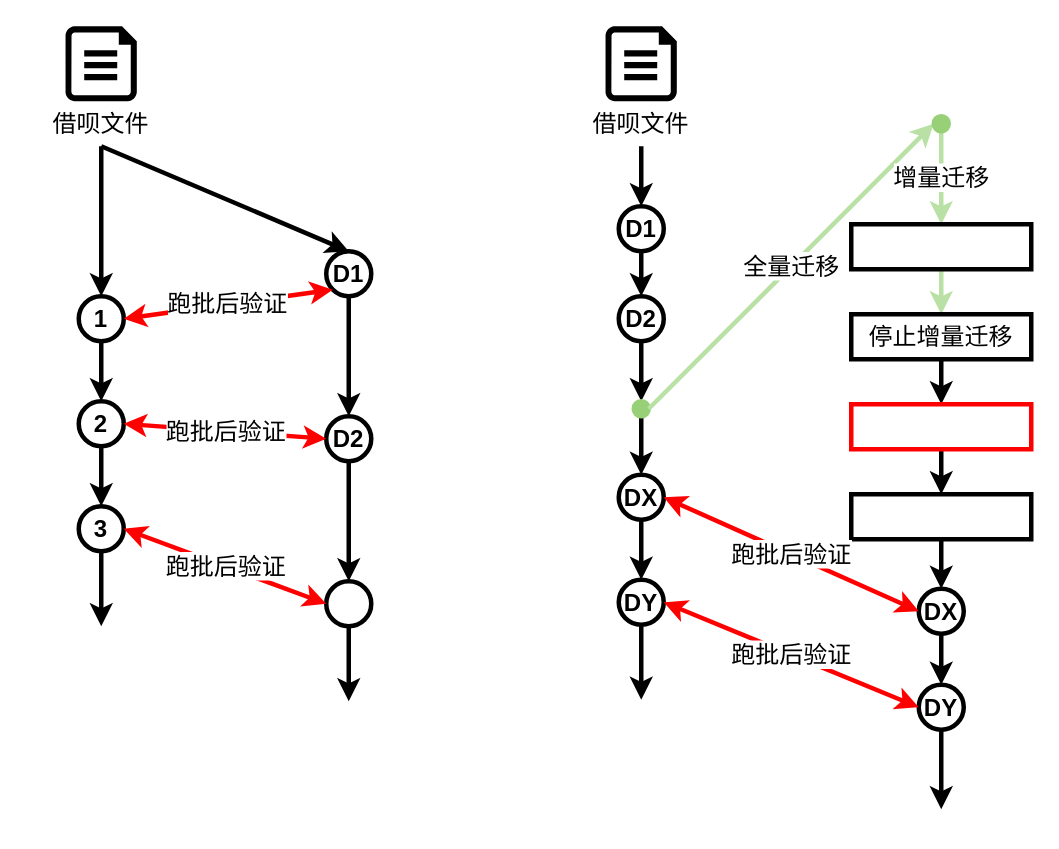
Some shapes in this 1059 by 849 pixel diagram are drawn without their labels. The centre of each missing label's shape, as x and y in pixels:
"D3" goes at (x=348, y=603).
"启动应用重跑" goes at (x=940, y=516).
"确定重跑日期" goes at (x=940, y=246).
"迁移后验证" goes at (x=940, y=426).
